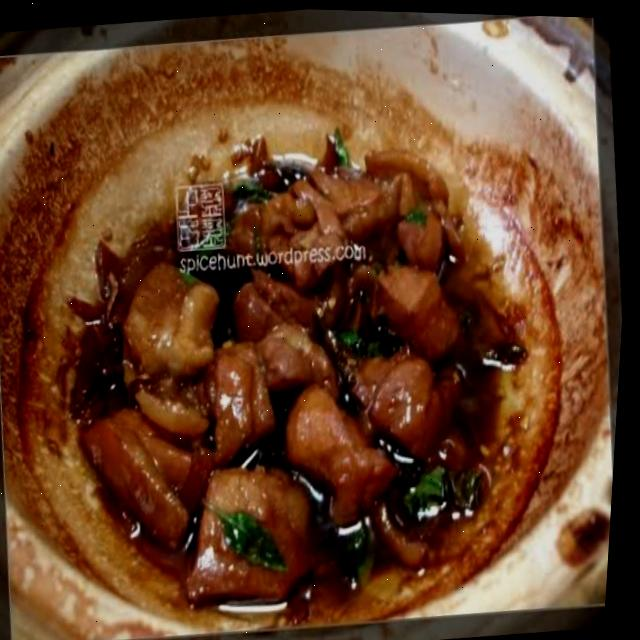鸡肉料理 含炸鸡: (0, 47, 590, 627)
